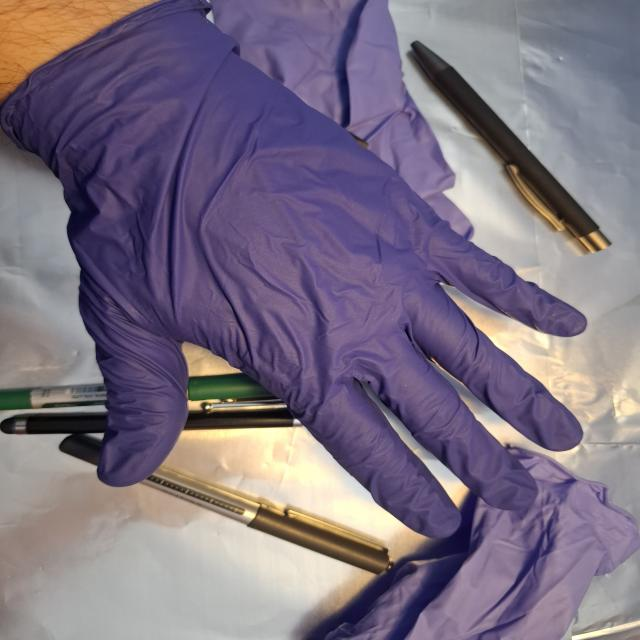glove_on: (11, 1, 593, 542)
